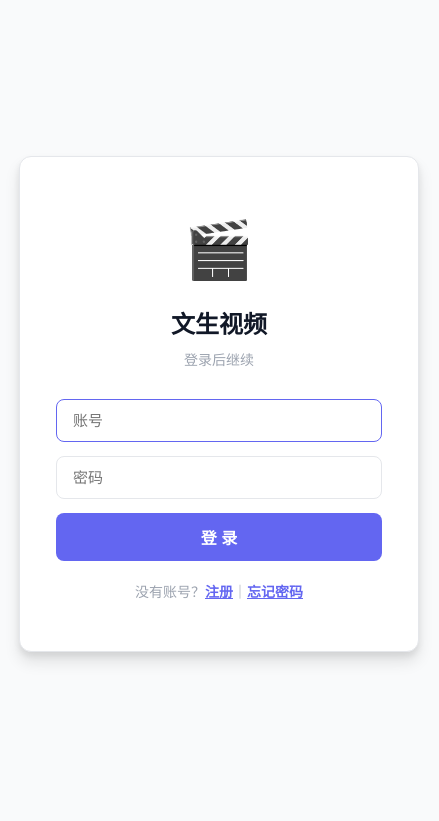
it: 表单验证 › 注册时账号只允许字母数字
Step 1. Click the button "注册" → point(219, 591), box [205, 581, 233, 601]
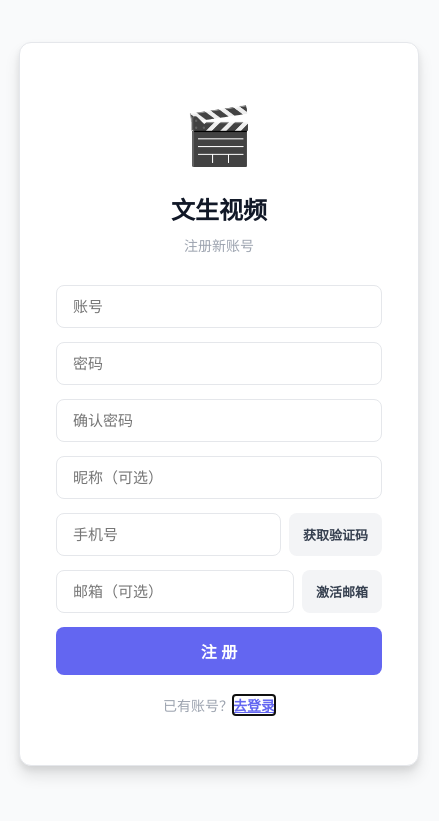
Step 2. Type "中文!@#" into the field with placeholder "账号" → point(219, 306), box [56, 285, 382, 328]
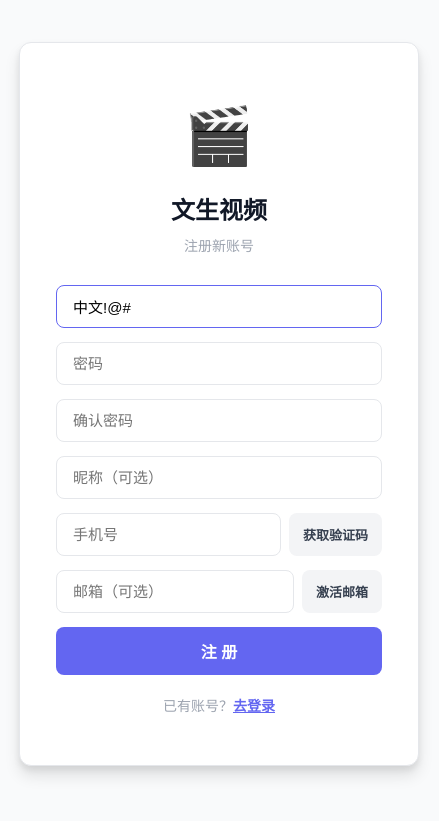
Step 3. Type "123456" into the password field with placeholder "密码" → point(219, 364), box [56, 342, 382, 385]
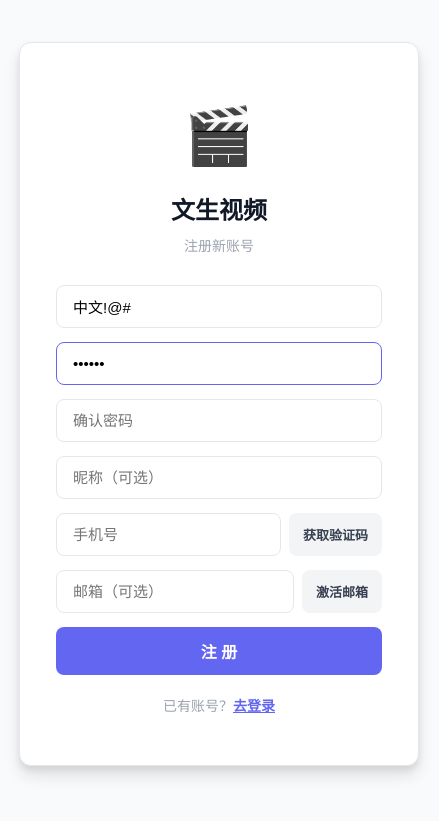
Step 4. Type "123456" into the password field with placeholder "确认密码" → point(219, 420), box [56, 399, 382, 442]
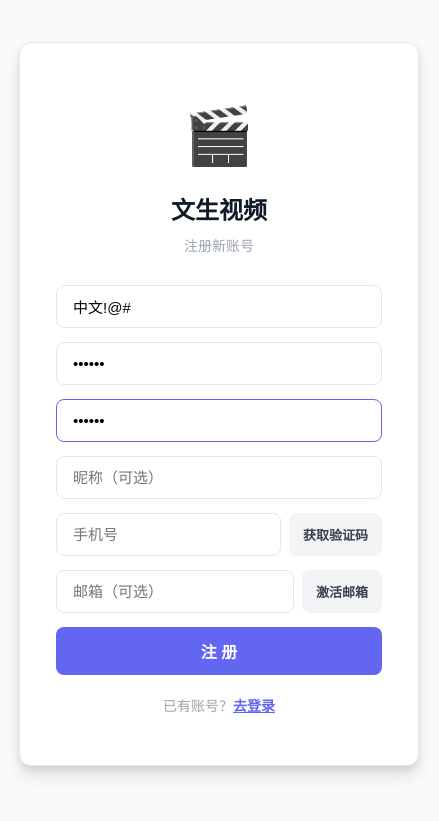
Step 5. Click the button "注 册" → point(219, 651), box [56, 627, 382, 675]
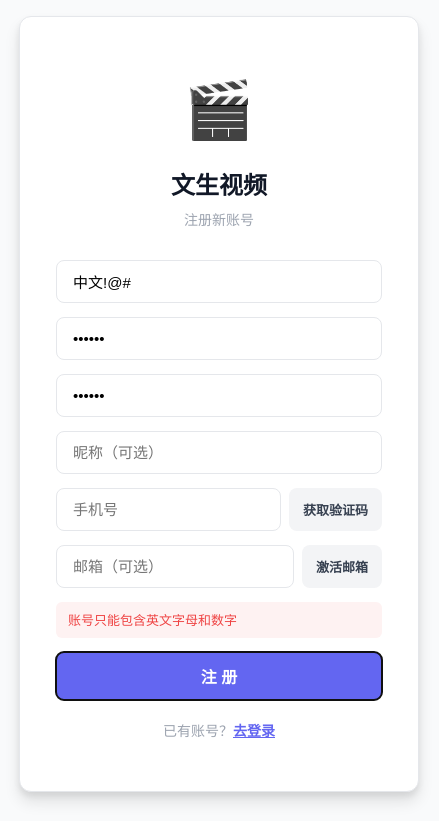
Result: the text "账号只能包含英文字母和数字" is shown at [56, 602, 382, 638]
